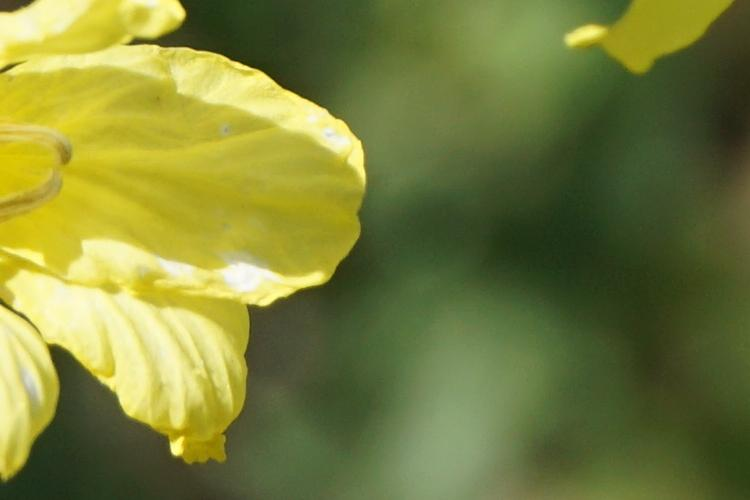yellow: (4, 9, 382, 479)
